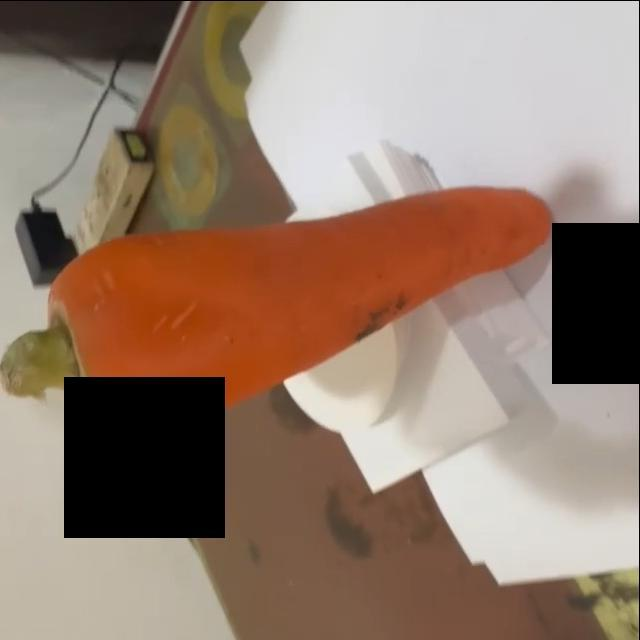carrot: (1, 184, 559, 438)
